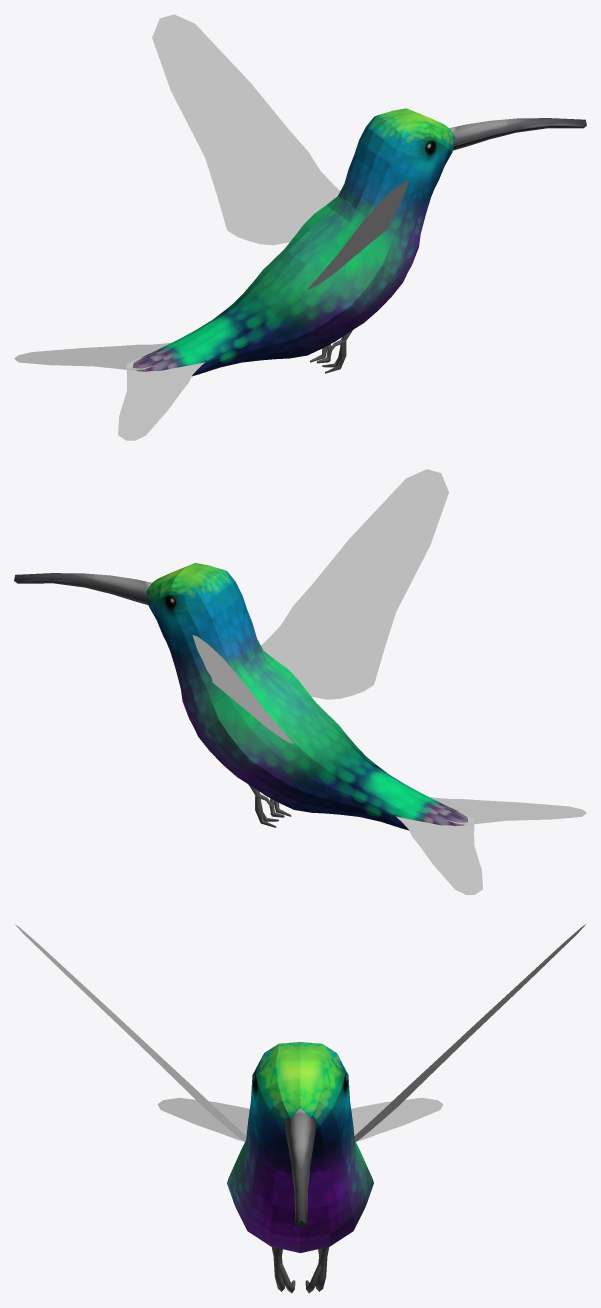
Rendered from hummingbird2.fbx.
3 renders of one model, top to bottom at view 1: azimuth 30°, elevation 25°; view 2: azimuth 150°, elevation 25°; view 3: azimuth 270°, elevation 25°, orthographic. The views are drawn at different scales.
Visible parts, largest first — view 1: Cube.001, Plane.003, Plane.004, NurbsPath.004; view 2: Cube.001, Plane.003, Plane.004, NurbsPath.004; view 3: Cube.001, Plane.004, Plane.003, NurbsPath.004, NurbsPath.005.
Part boxes in pixels (bbox=[...]): Cube.001: bbox=[133, 108, 454, 376]; Plane.003: bbox=[152, 14, 408, 289]; Plane.004: bbox=[14, 342, 205, 440]; NurbsPath.004: bbox=[449, 118, 586, 150]; Cube.001: bbox=[146, 563, 467, 830]; Plane.003: bbox=[192, 469, 448, 743]; Plane.004: bbox=[396, 797, 586, 894]; NurbsPath.004: bbox=[14, 573, 151, 605]; Cube.001: bbox=[227, 1042, 373, 1252]; Plane.004: bbox=[157, 1098, 443, 1141]; Plane.003: bbox=[15, 924, 585, 1141]; NurbsPath.004: bbox=[284, 1108, 316, 1228]; NurbsPath.005: bbox=[271, 1247, 329, 1291].
Bounding box in the file's own units: 1399 × 716 × 1094.
